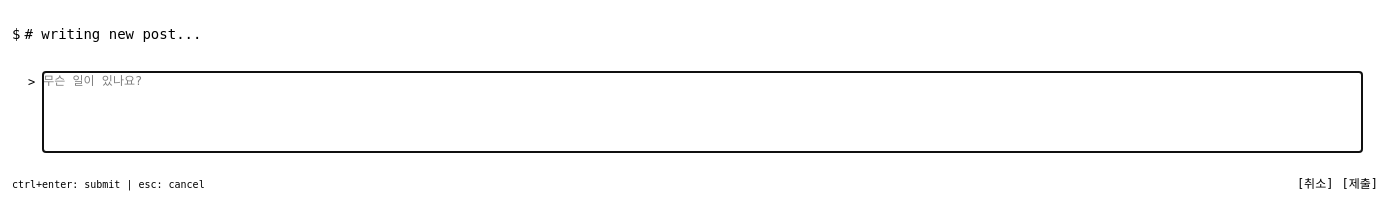
FeedComposer › shows nickname prompt when submitting without nickname
Type "test content" into the text box with placeholder "무슨 일이 있나요?" at (703, 112), box 43,72 -> 1362,152
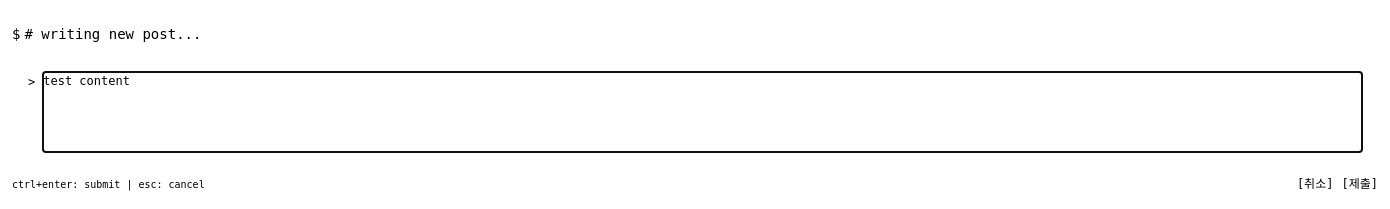
Click the button "[제출]" at (1360, 184), box 1341,176 -> 1378,192
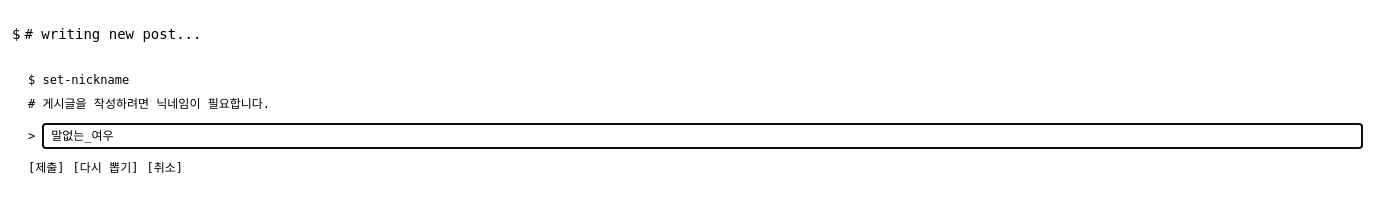
Now the text "$ set-nickname" is shown, box 28,73 -> 129,87
